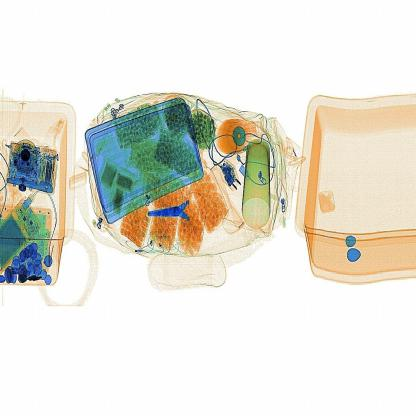gun: (148, 180, 222, 247)
